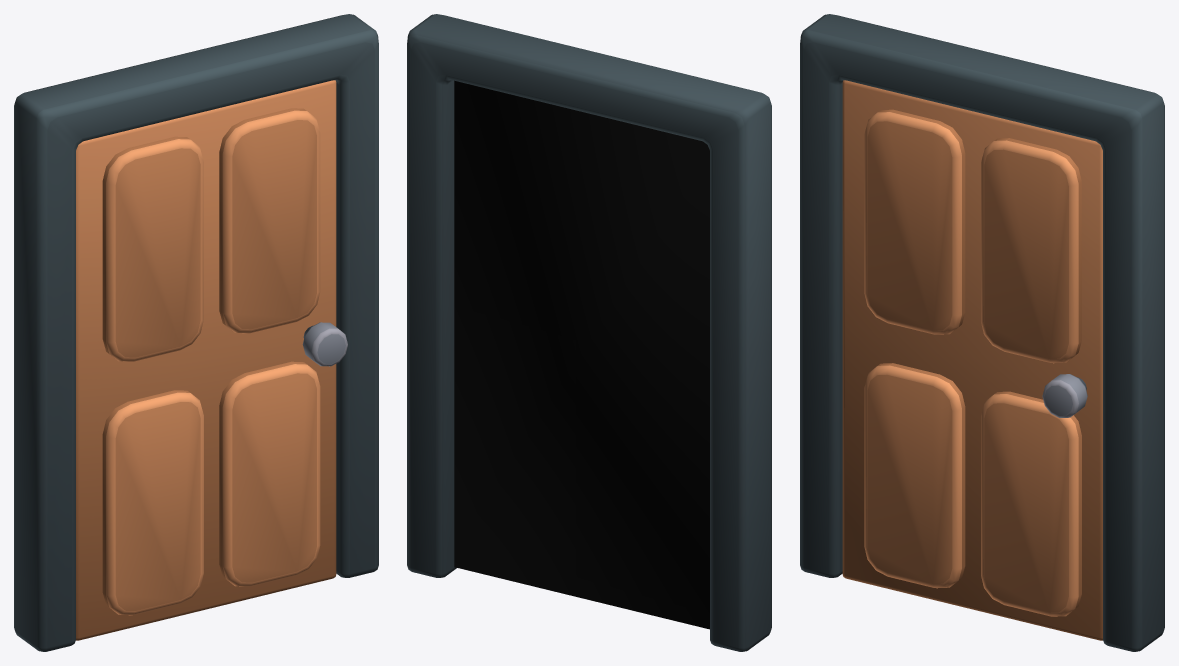
The model's file is mct_homepart_door.fbx.
3 renders of one model, left to right at view 1: azimuth 30°, elevation 25°; view 2: azimuth 150°, elevation 25°; view 3: azimuth 330°, elevation 25°, orthographic.
Visible parts, largest first — view 1: mct_door, mct_doorFrame; view 2: mct_doorFrame; view 3: mct_door, mct_doorFrame.
Part boxes in pixels (x1,y1,x2,y2): mct_door: [76, 80, 347, 640]; mct_doorFrame: [14, 14, 378, 651]; mct_doorFrame: [407, 14, 771, 651]; mct_door: [842, 80, 1102, 640]; mct_doorFrame: [800, 14, 1164, 651].
Bounding box in the file's own units: 145 × 220 × 32.56.
